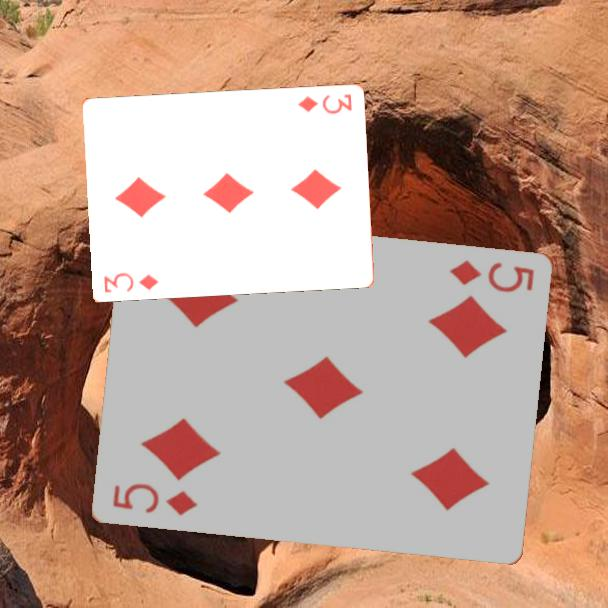d03: (101, 269, 162, 295), (295, 90, 355, 116)
d05: (109, 479, 201, 518), (447, 256, 537, 295)
